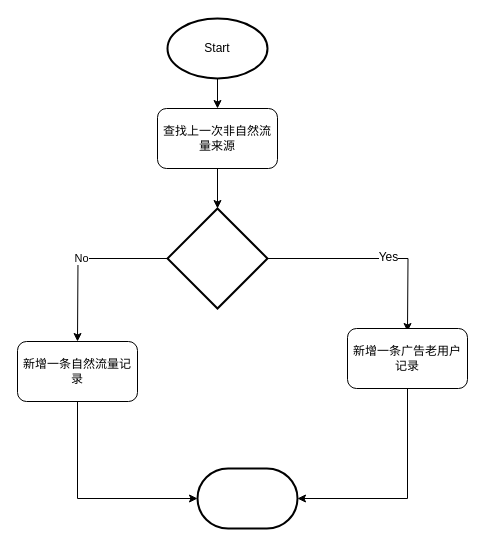
This 485x546 diagram has some shape labels left out. Each missing label, with the centre of its shape:
"End" belongs at pixel 247 498.
"found？" belongs at pixel 217 258.
